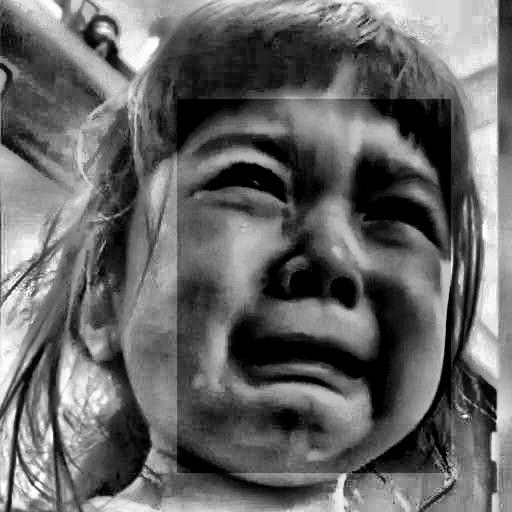sad: (177, 99, 451, 473)
